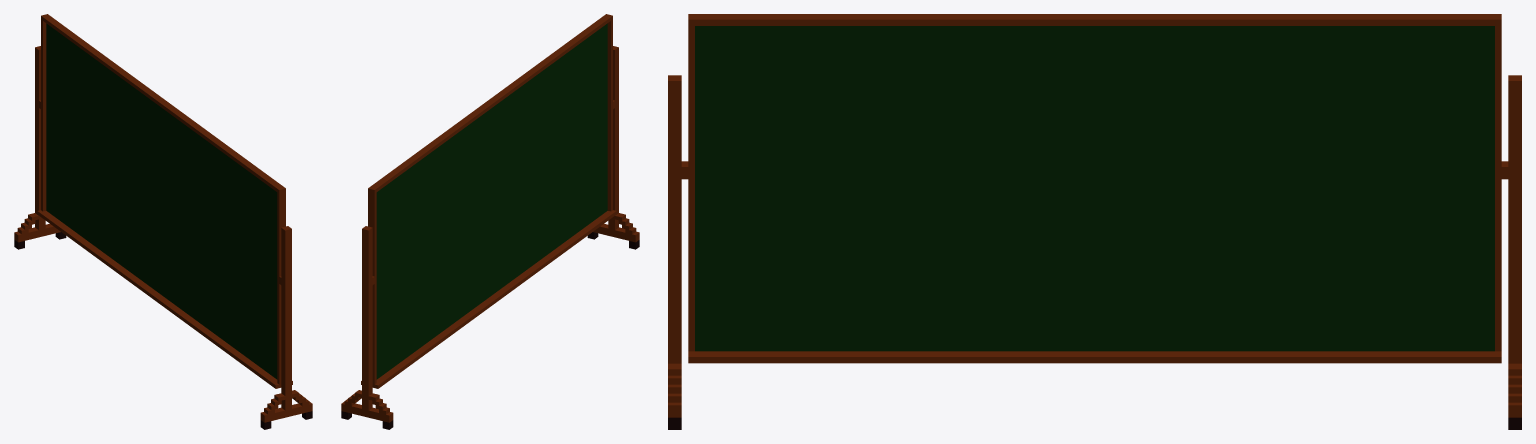
File: chalkboard.obj
The picture shows the model from 3 angles, left to right: view 1: azimuth 30°, elevation 25°; view 2: azimuth 150°, elevation 25°; view 3: azimuth 270°, elevation 25°; orthographic projection. The views are drawn at different scales.
Bounding box in the file's own units: 1.4 × 6.4 × 12.6.
Materials: 1 (1 with a texture image).
